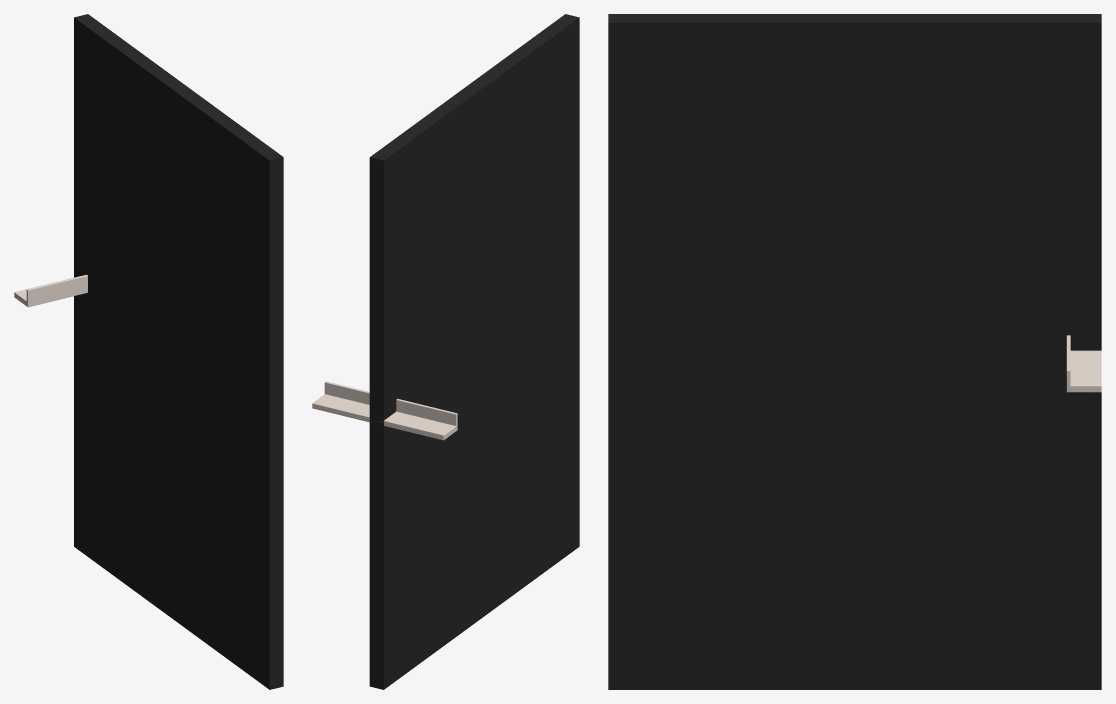
Rendered from Cabinet_f59c6604.obj.
3 renders of one model, left to right at view 1: azimuth 30°, elevation 25°; view 2: azimuth 150°, elevation 25°; view 3: azimuth 270°, elevation 25°, orthographic. The views are drawn at different scales.
Visible parts, largest first — view 1: FP417:Door3_452f7e5e, handle_3_178mm_01_0821f759; view 2: FP417:Door3_452f7e5e, handle_3_178mm_01_0821f759; view 3: FP417:Door3_452f7e5e, handle_3_178mm_01_0821f759.
Part boxes in pixels (x1,y1,x2,y2): FP417:Door3_452f7e5e: [74, 14, 283, 689]; handle_3_178mm_01_0821f759: [14, 274, 87, 307]; FP417:Door3_452f7e5e: [369, 14, 579, 689]; handle_3_178mm_01_0821f759: [312, 381, 457, 440]; FP417:Door3_452f7e5e: [608, 14, 1101, 689]; handle_3_178mm_01_0821f759: [1066, 335, 1101, 392].
Bounding box in the file's own units: 0.178 × 0.6845 × 0.4587.
